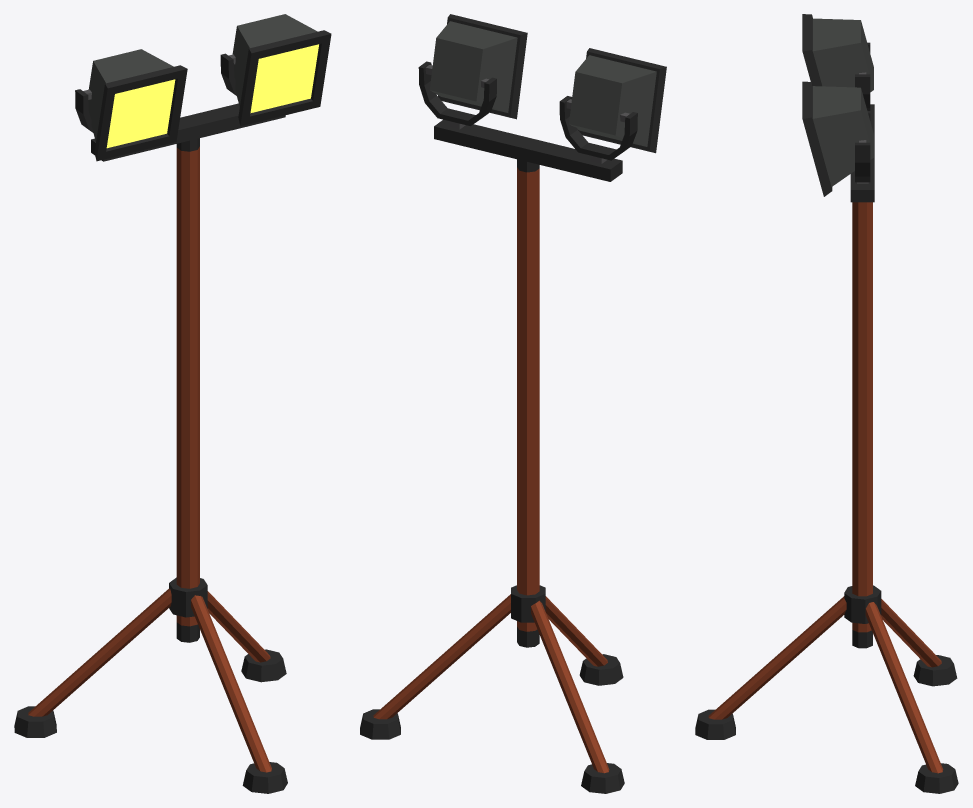
The model's file is SM_Props_Light_02.glb.
3 views of the same model, side by side, from view 1: azimuth 30°, elevation 25°; view 2: azimuth 150°, elevation 25°; view 3: azimuth 270°, elevation 25° (orthographic). The views are drawn at different scales.
Parts seen in each view (by area): view 1: SM_Props_Light_02; view 2: SM_Props_Light_02; view 3: SM_Props_Light_02.
Part boxes in pixels (x1=…): SM_Props_Light_02: x1=14, y1=14, x2=331, y2=793; SM_Props_Light_02: x1=360, y1=14, x2=666, y2=793; SM_Props_Light_02: x1=695, y1=14, x2=958, y2=793.
Bounding box in the file's own units: 0.6092 × 1.5 × 0.5379.
2 materials, 1 textured.
